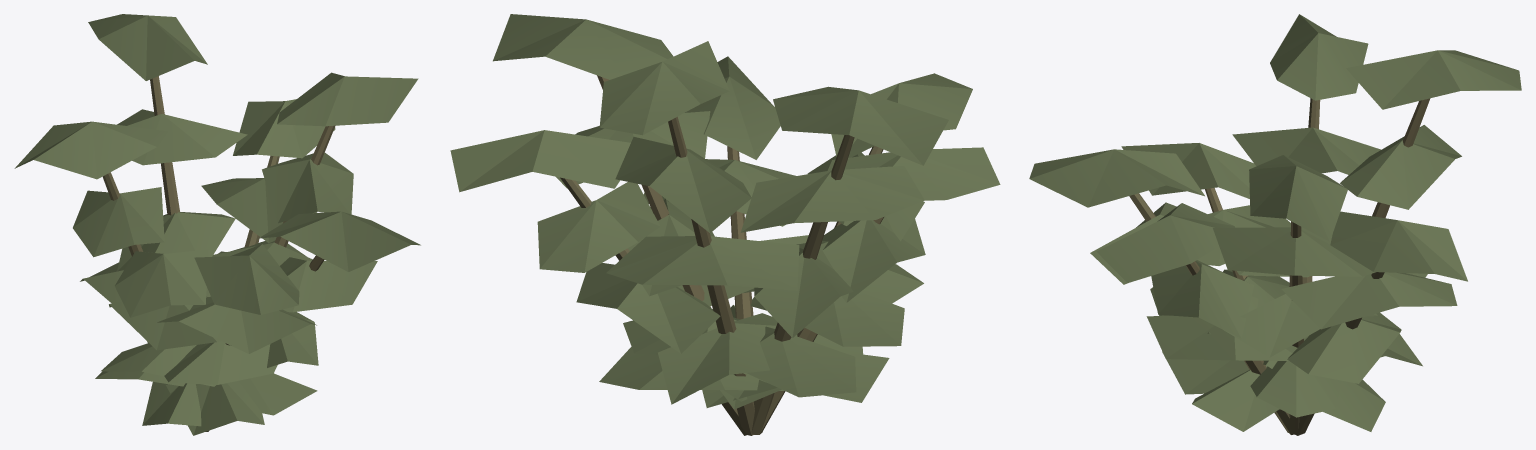
The model's file is taiga-bilberry.glb.
3 views of the same model, side by side, from view 1: azimuth 30°, elevation 25°; view 2: azimuth 150°, elevation 25°; view 3: azimuth 270°, elevation 25° (orthographic). The views are drawn at different scales.
Visible parts, largest first — view 1: Голубика; view 2: Голубика; view 3: Голубика.
Part boxes in pixels (left/top/right/bottom): Голубика: left=14, top=14, right=420, bottom=435; Голубика: left=450, top=14, right=1000, bottom=435; Голубика: left=1029, top=14, right=1521, bottom=435.
Size of the model in its own units: 1.17 by 1.07 by 1.23.
